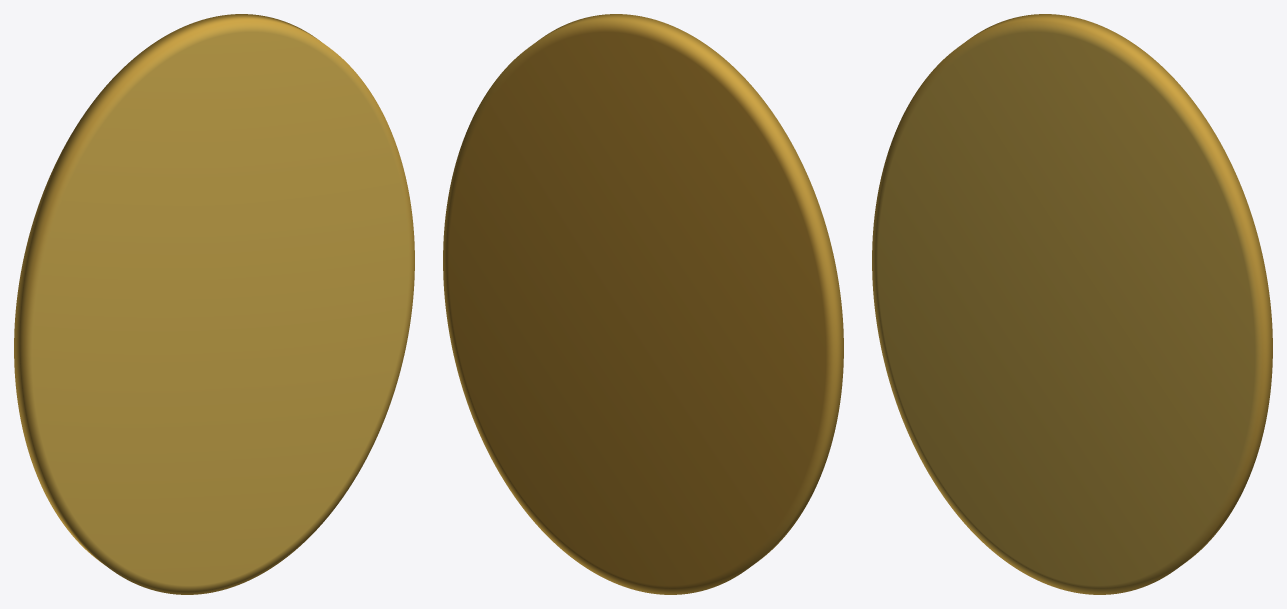
Rendered from SG-HEEL-POST-OVAL_LEFT_addon.glb.
The picture shows the model from 3 angles, left to right: view 1: azimuth 30°, elevation 25°; view 2: azimuth 150°, elevation 25°; view 3: azimuth 330°, elevation 25°; orthographic projection.
Visible parts, largest first — view 1: world; view 2: world; view 3: world.
Part boxes in pixels (x1,y1,x2,y2): world: (14,14,414,594); world: (443,14,843,594); world: (872,14,1272,594).
Size of the model in its own units: 60 by 83 by 3.2.
